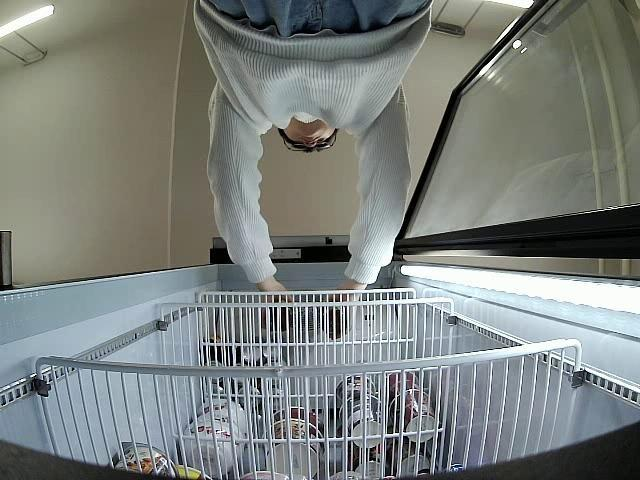19_17cha: (327, 308, 349, 338), (268, 308, 294, 330)
